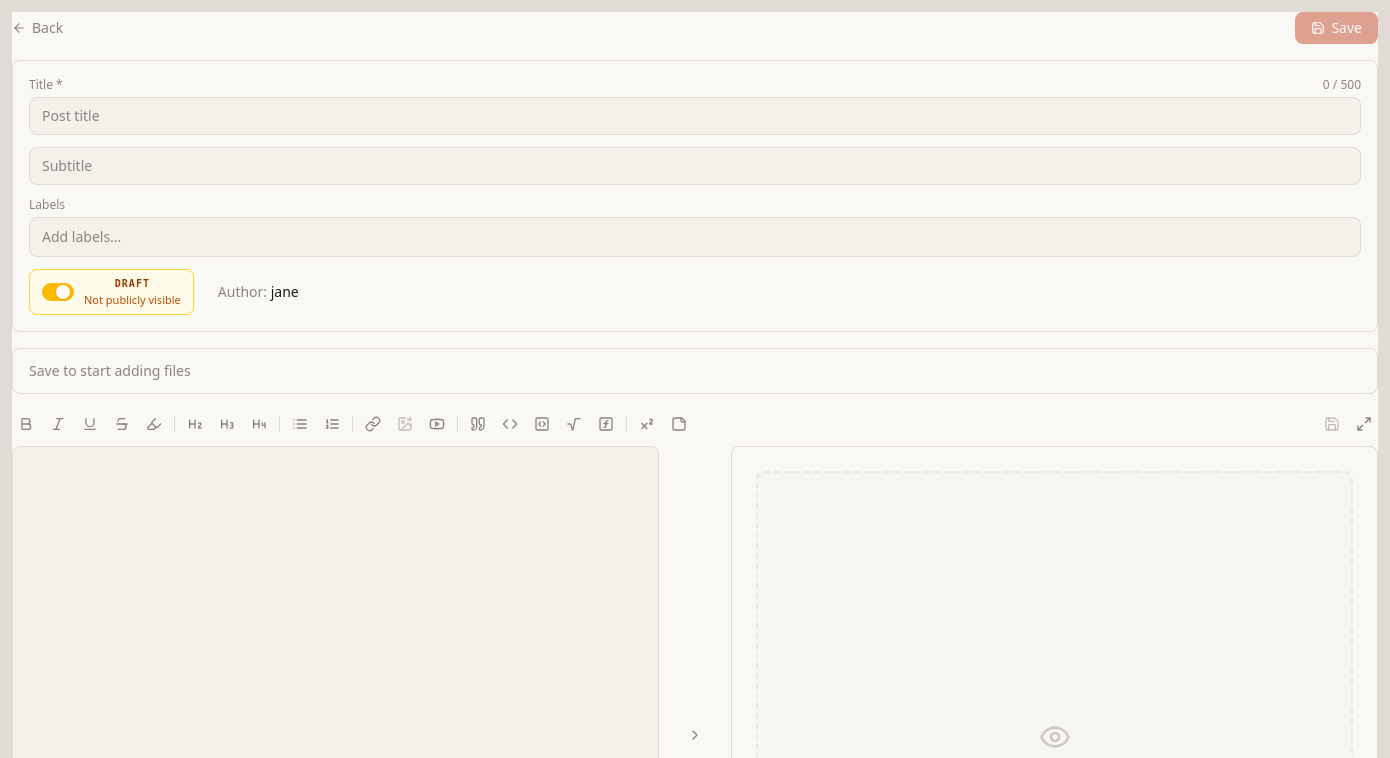
Test: EditorPage › shows 401 save error
Step 1. Type "Test" into the field labelled "Title *" → [695, 116], box [29,97,1361,135]
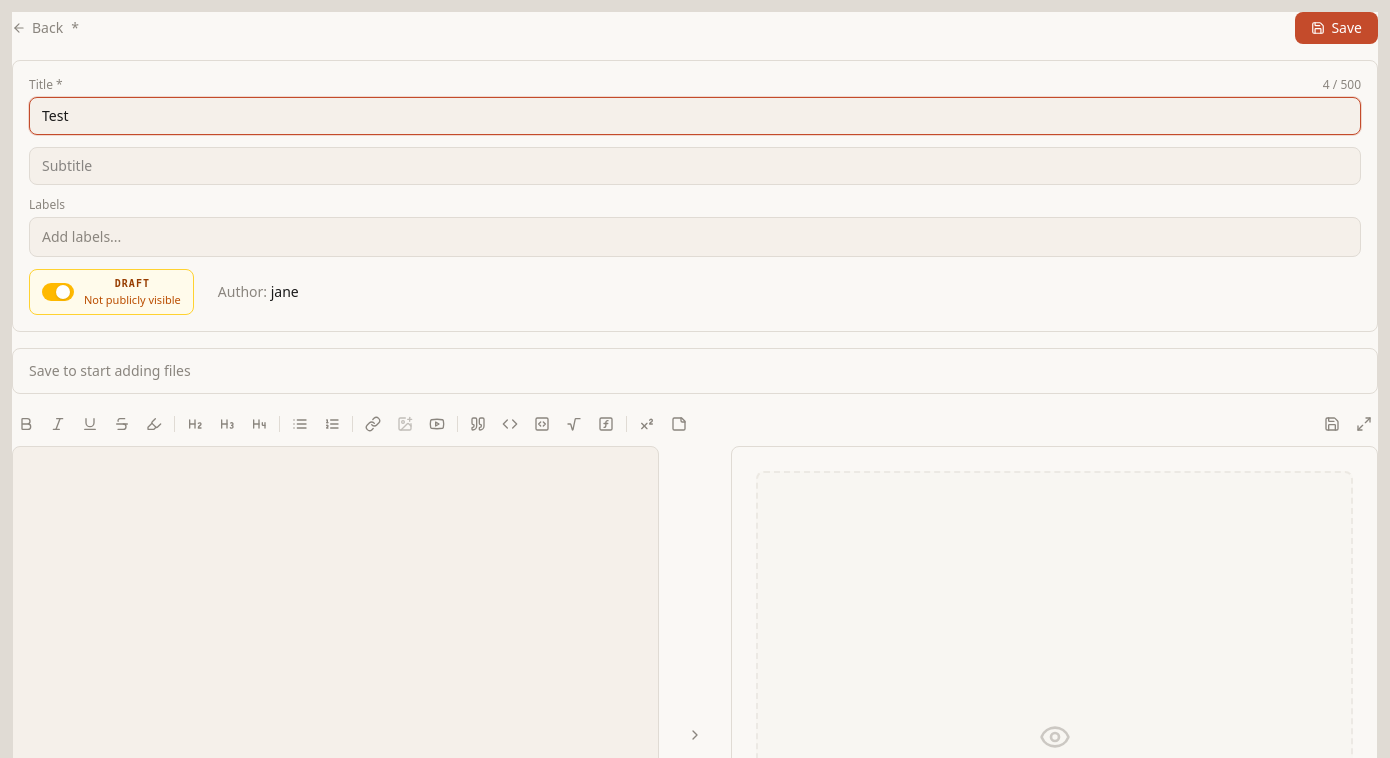
Step 2. Click the button with aria-label "Save post" → [1337, 28], box [1295,12,1378,44]
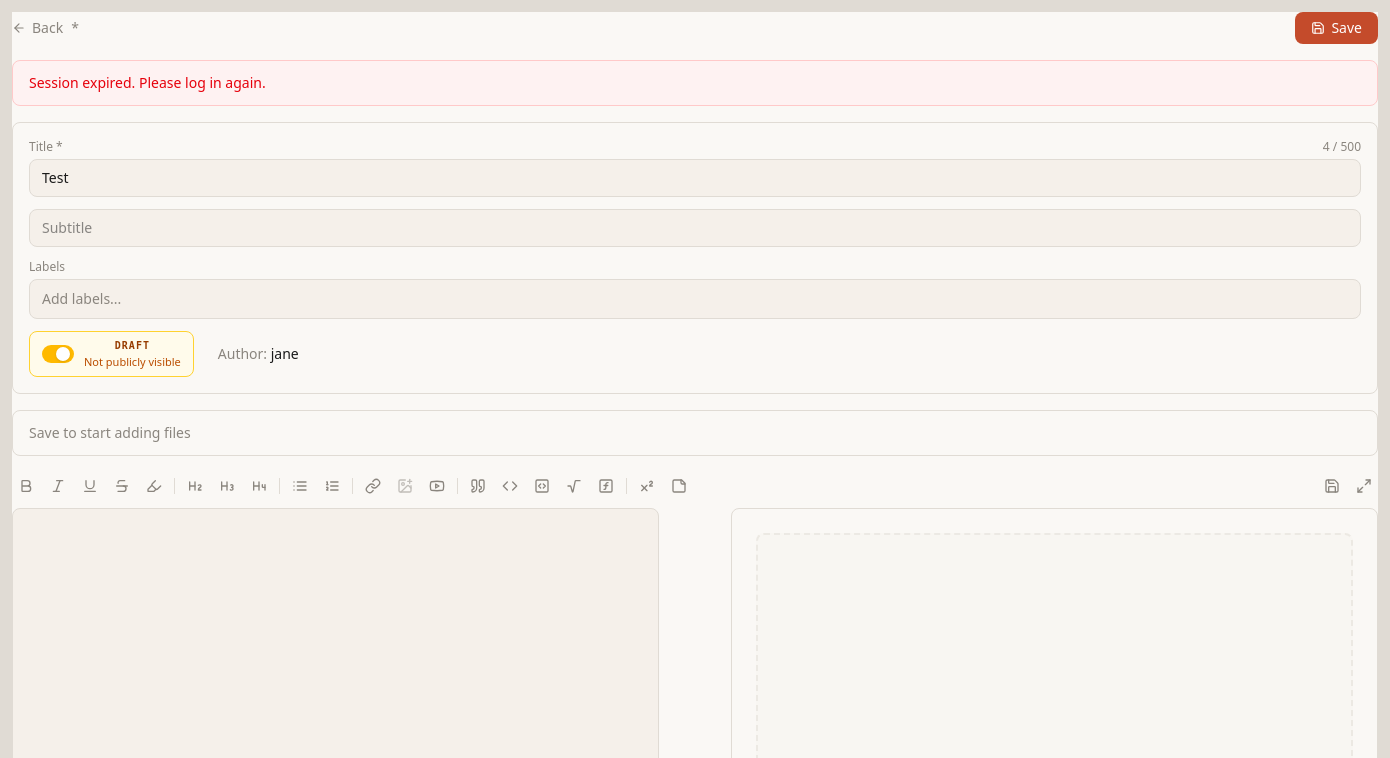
Expected: the text "Session expired. Please log in again." is shown, [12,60,1378,106]
